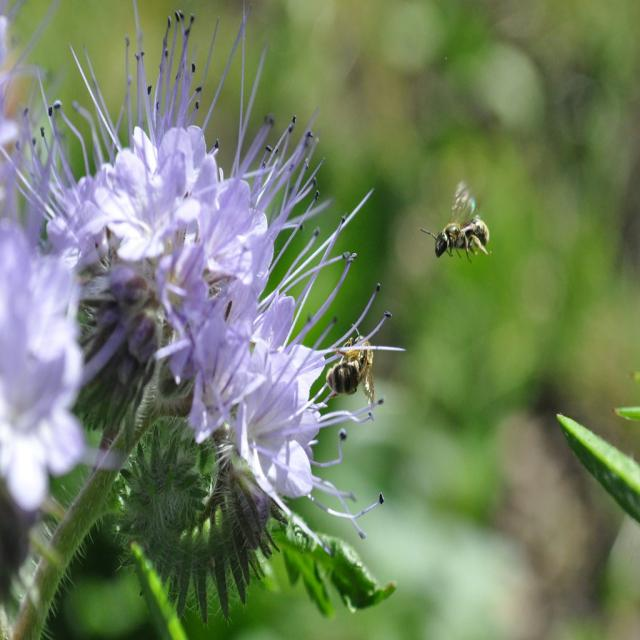Seladonia: (320, 312, 386, 430), (426, 176, 504, 260)
